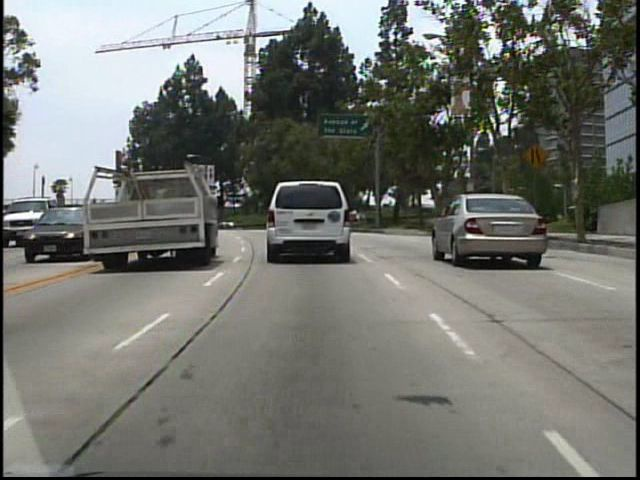person: (448, 193, 467, 234)
